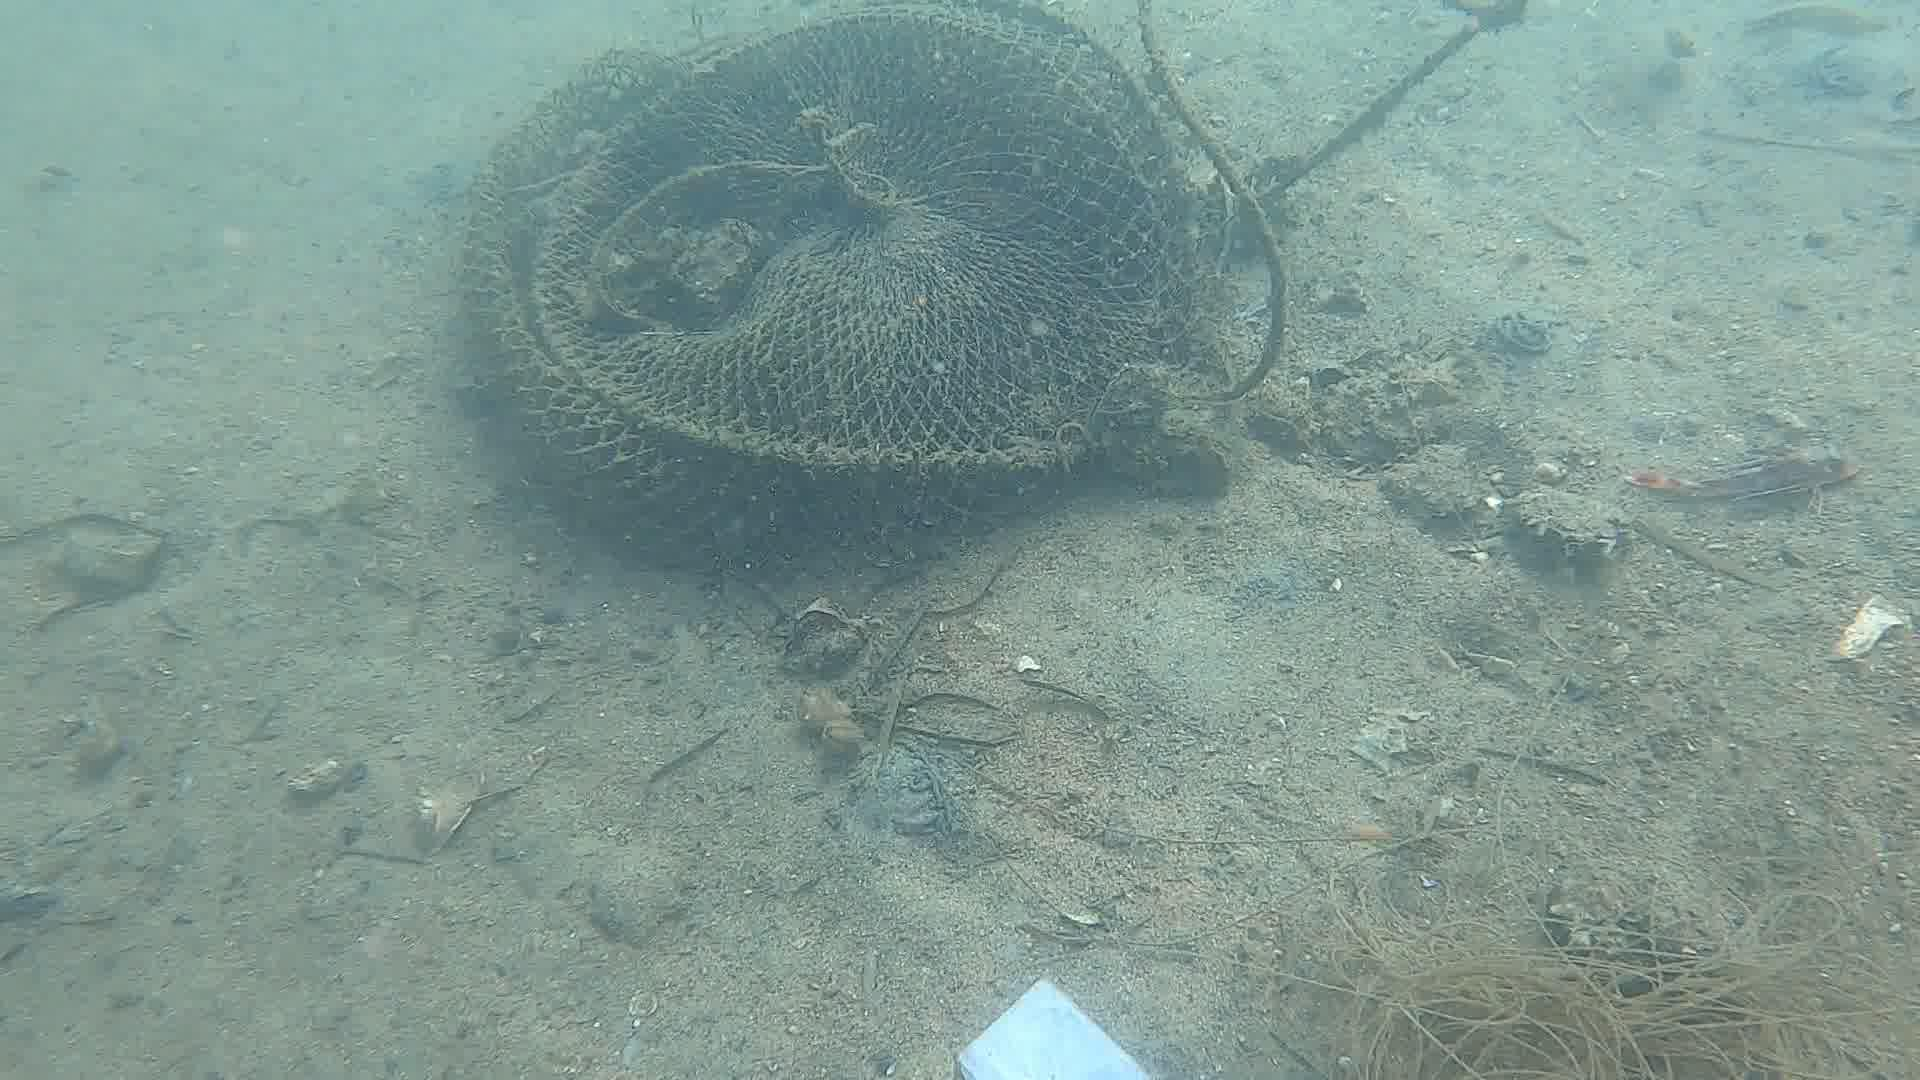bundle of ropes: (1124, 0, 1296, 414)
circular fish trap: (454, 3, 1203, 589)
